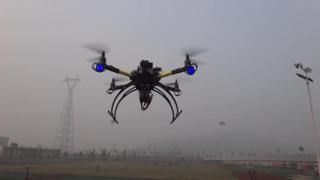UAV: (81, 44, 210, 124)
